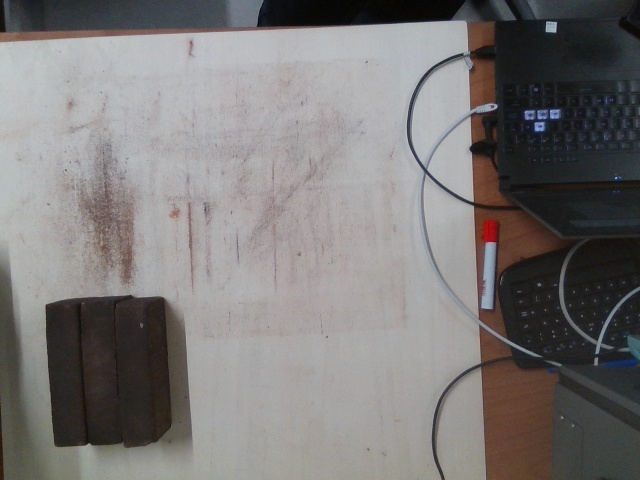brick-side: (44, 307, 84, 448), (113, 306, 153, 447), (79, 303, 119, 444)
